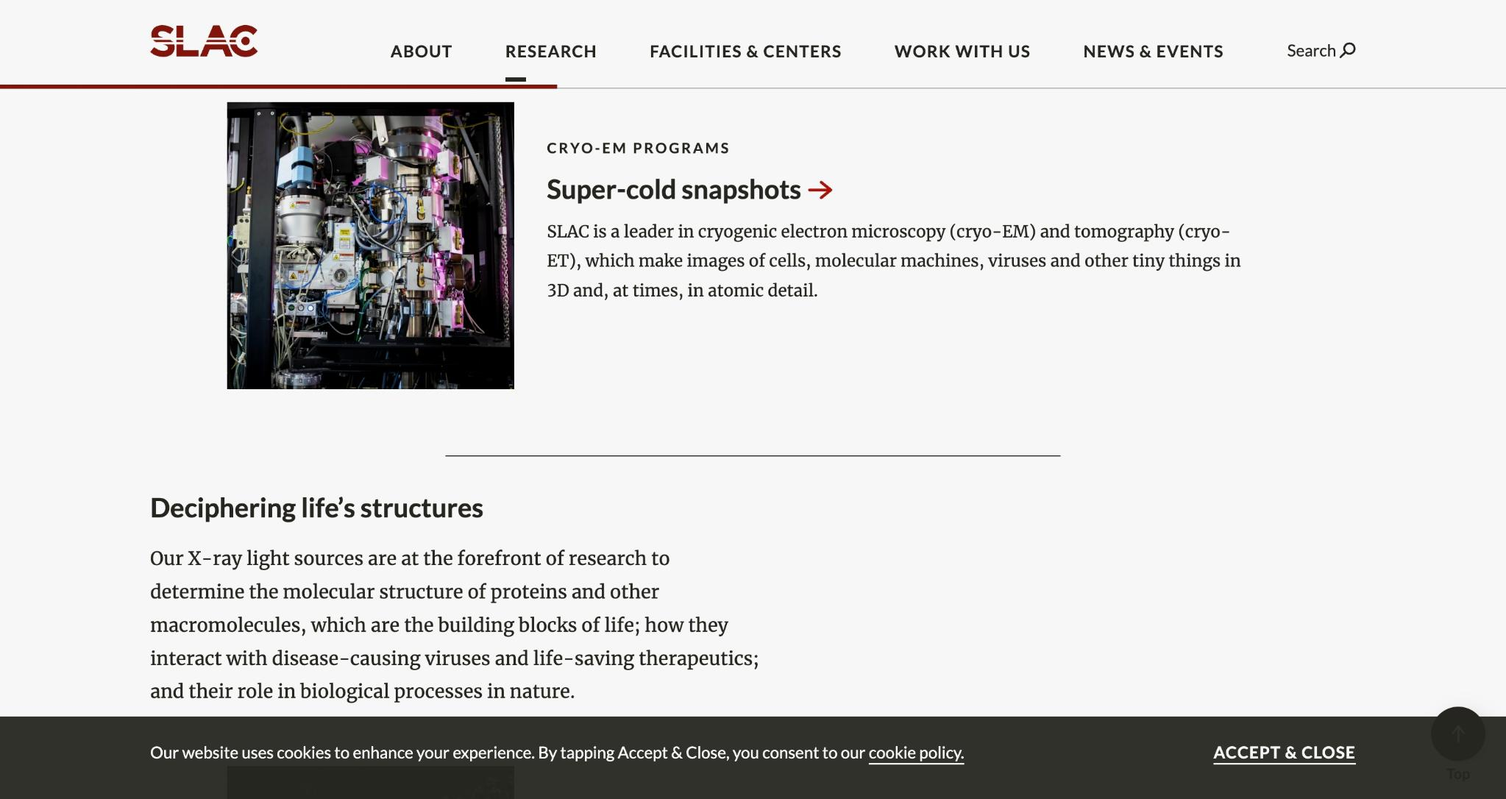webelement: (0, 0, 1505, 88), (0, 716, 1505, 798), (150, 547, 759, 702), (227, 101, 514, 388), (547, 217, 1246, 304), (150, 15, 1356, 61), (445, 388, 1060, 420), (150, 741, 964, 765), (150, 490, 483, 522), (227, 765, 514, 799), (150, 24, 343, 56), (682, 171, 834, 203), (650, 40, 841, 60), (1214, 741, 1356, 765), (1431, 706, 1485, 760), (1084, 40, 1223, 60), (894, 40, 1030, 60), (868, 741, 963, 765), (1431, 764, 1485, 799), (505, 40, 597, 60), (1287, 39, 1356, 61), (390, 40, 452, 60), (1446, 764, 1470, 781), (1449, 724, 1467, 743)
